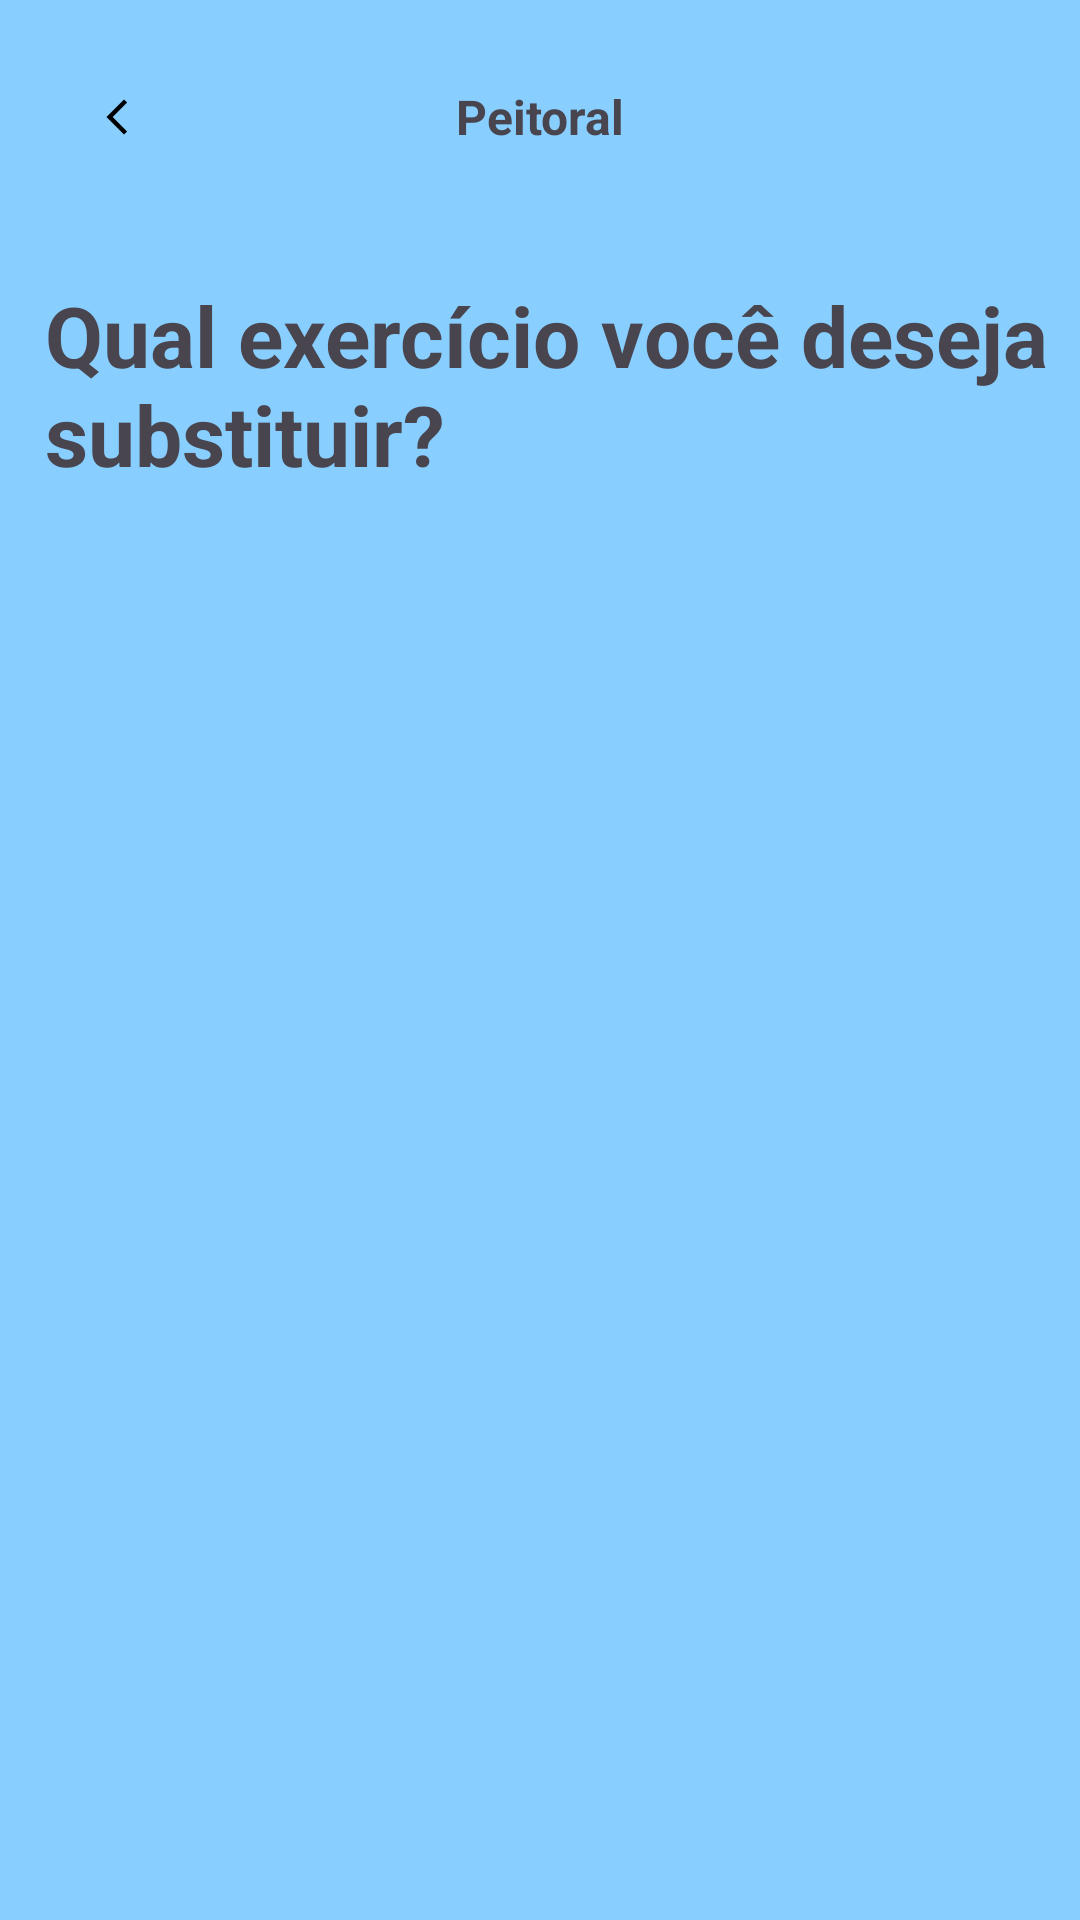

Icons on this 1080 x 1920 Android screen, each with the point to tap as (x,y):
back: (116,117)
